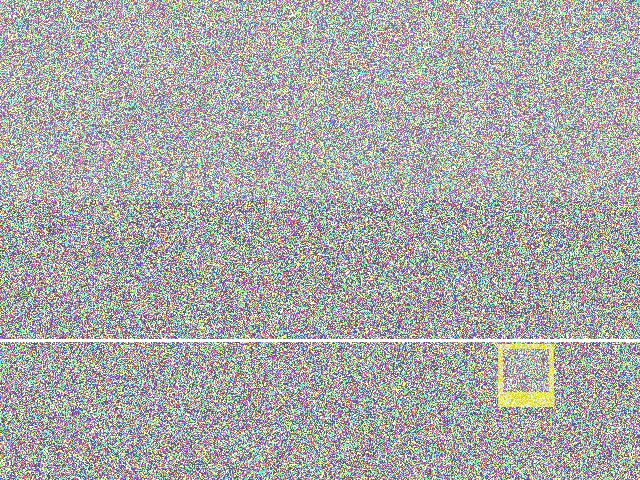bus: (286, 314, 441, 395)
car: (529, 314, 618, 394)
motorcycle: (460, 164, 618, 294)
